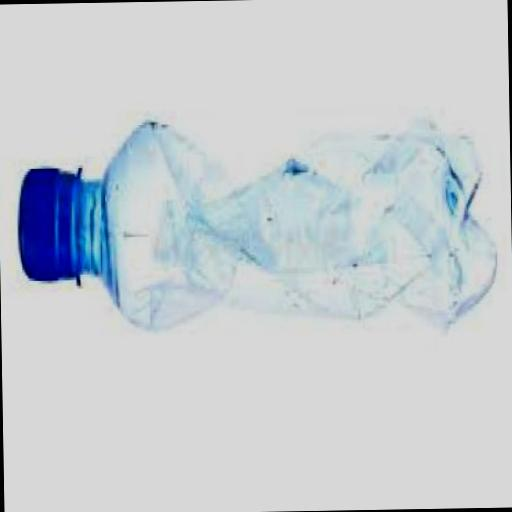plastic: (12, 122, 495, 337), (16, 171, 74, 286)
